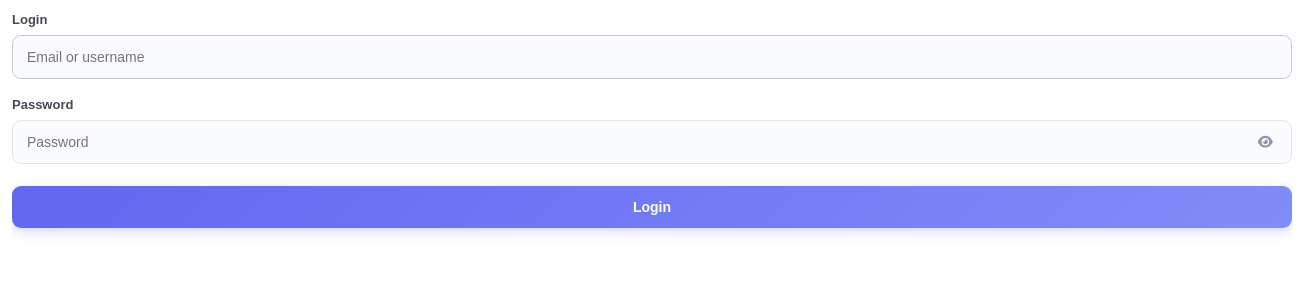
Test: LoginForm › Form submission › shows an Error message when authentication fails
The image size is (1304, 305).
Type "alexj" into the field with test id "login-input" at (652, 57), box 12,35 -> 1292,79
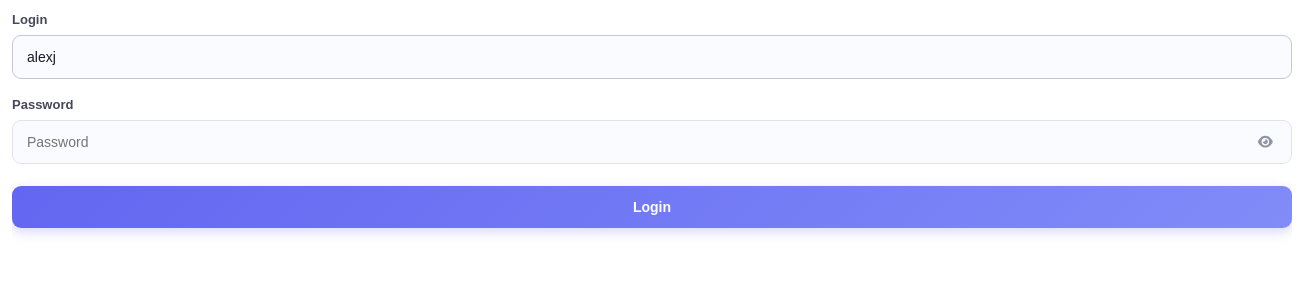
Type "secret123" into the password field with test id "password-input" at (652, 142), box 12,120 -> 1292,164
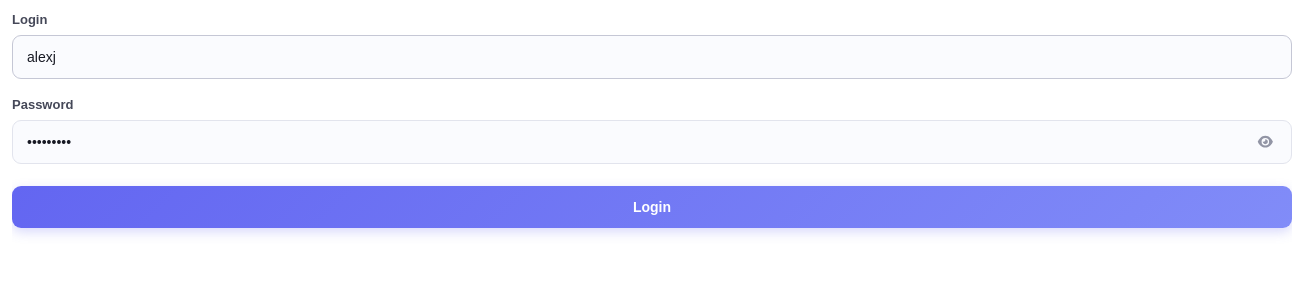
Click the button with test id "login-submit" at (652, 207), box 12,186 -> 1292,228
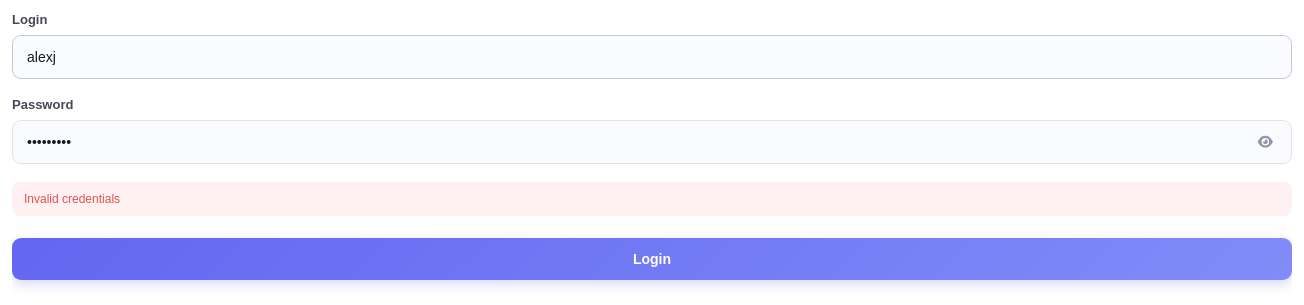
Expected: the text with test id "login-server-error" reads "Invalid credentials", 24,192 -> 120,206
